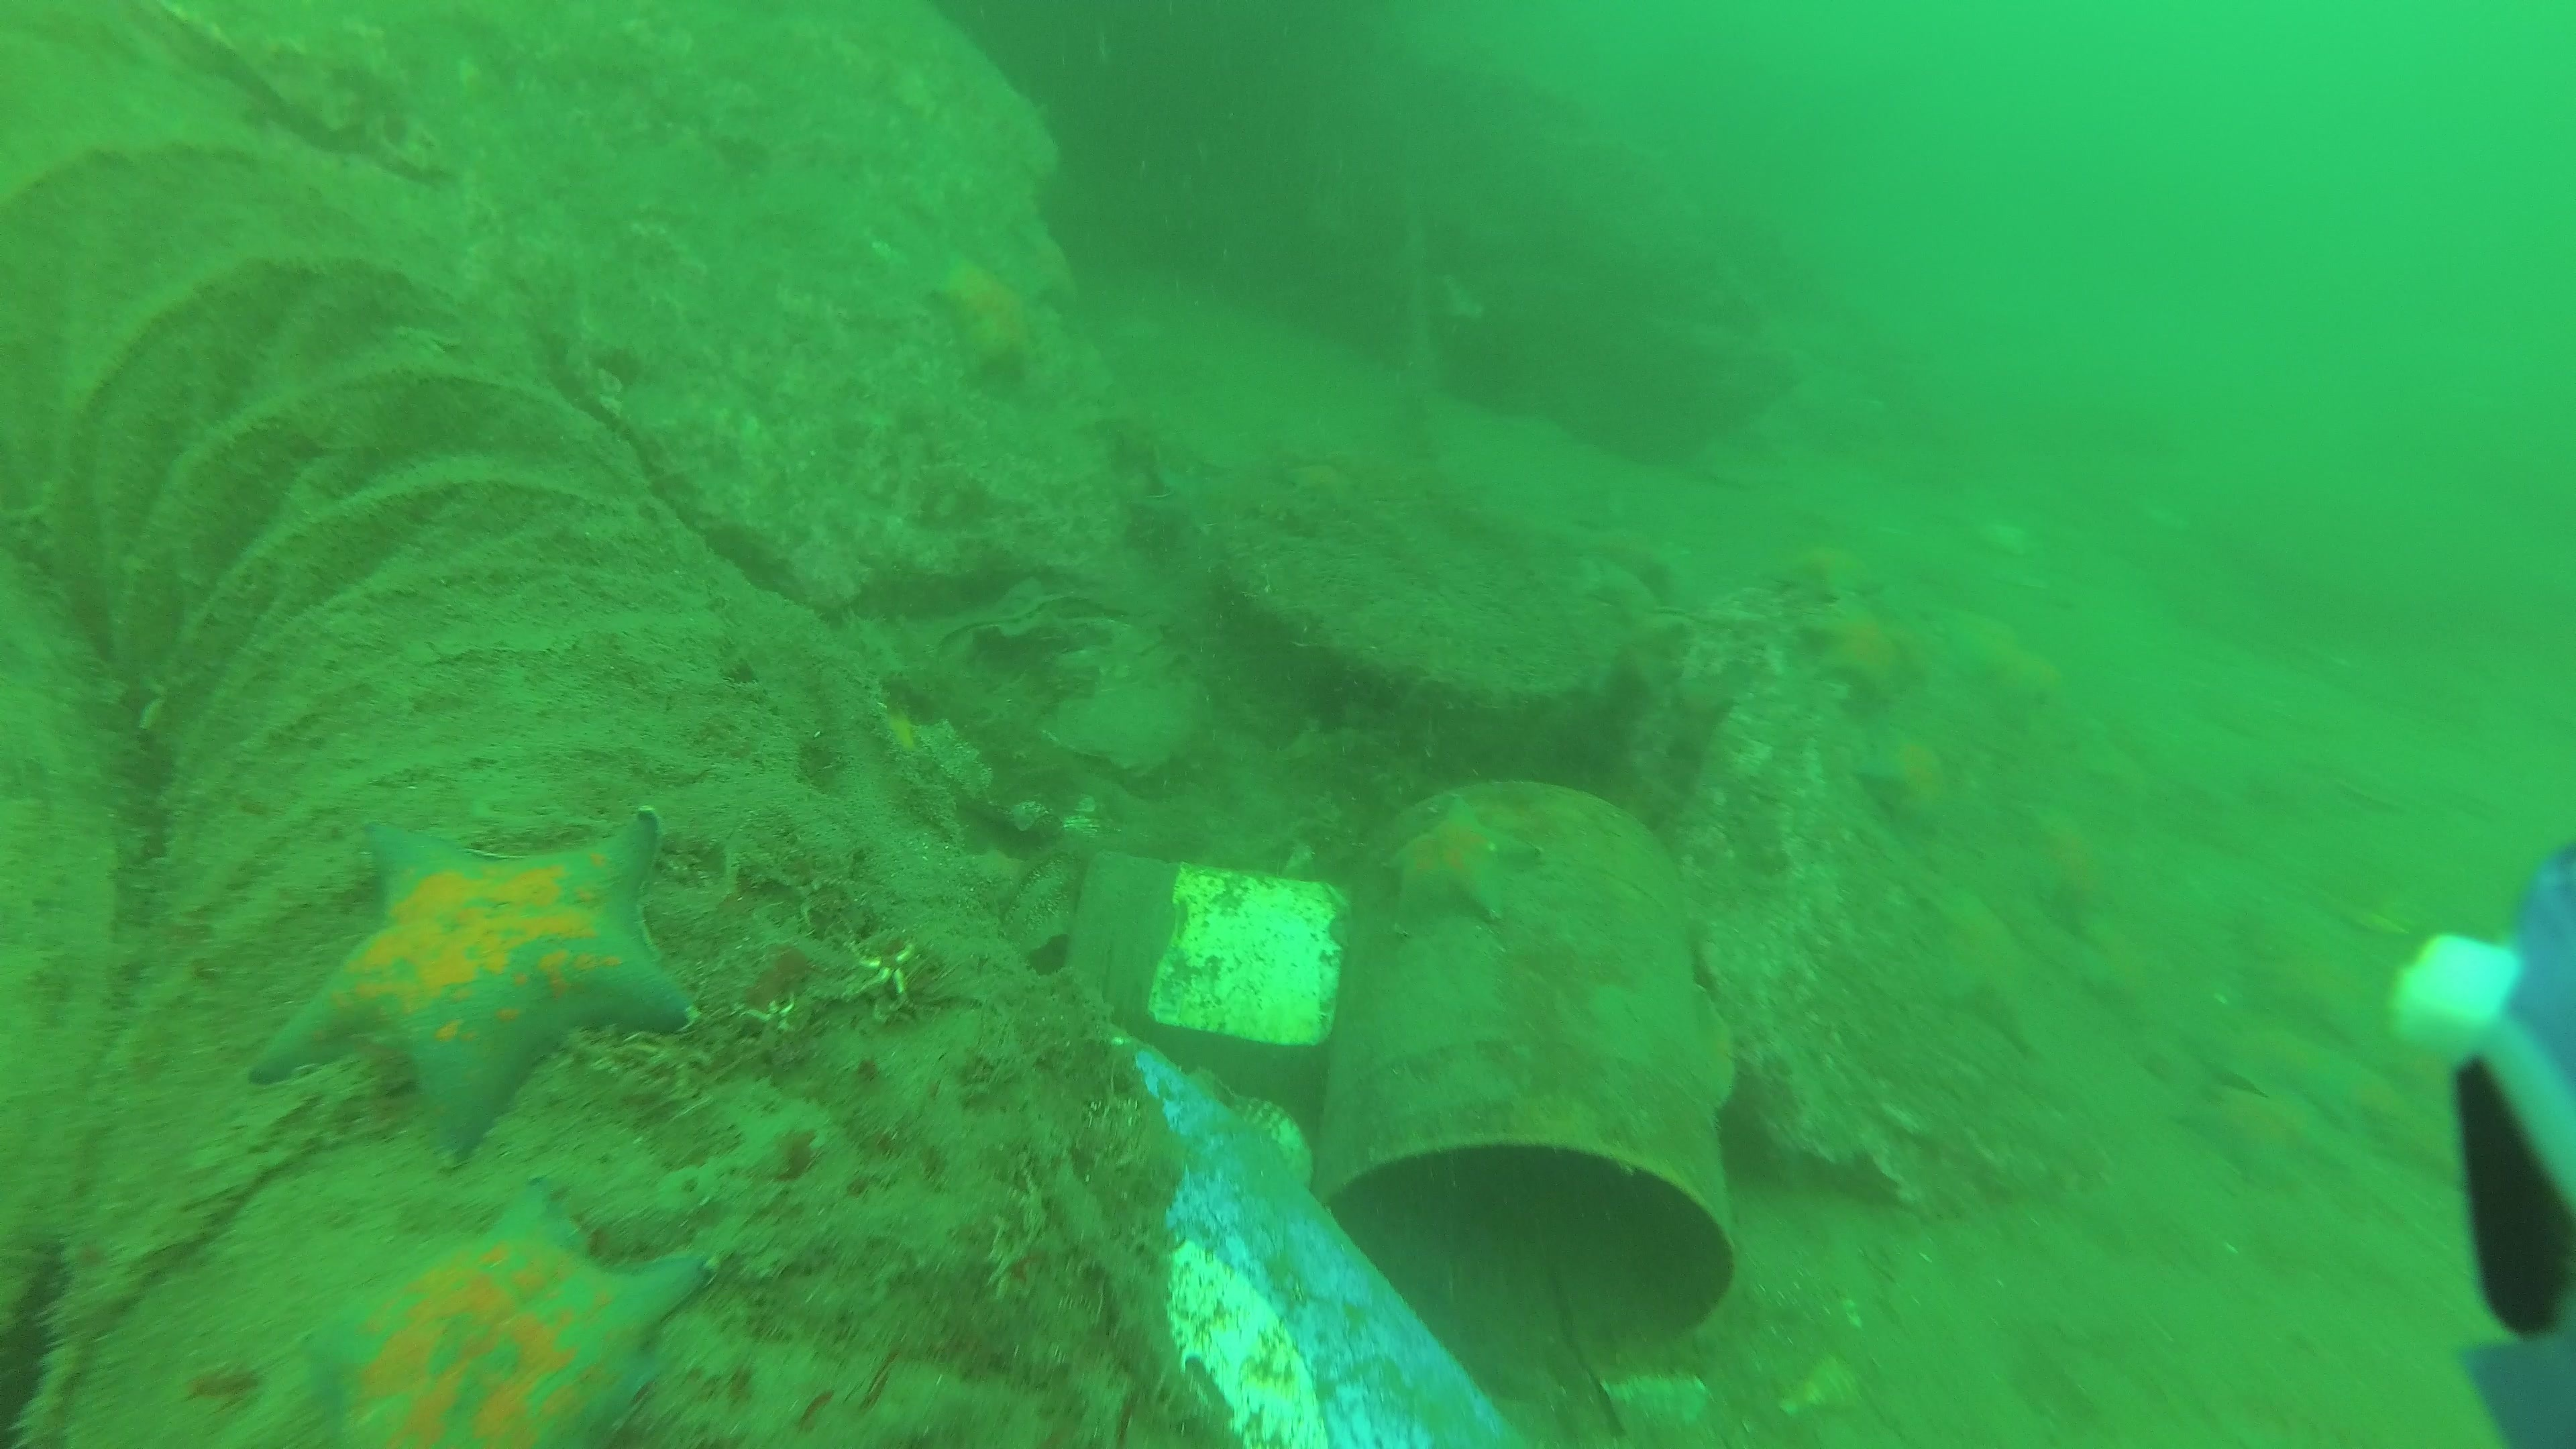starfish: (253, 805, 699, 1171), (295, 1184, 722, 1449), (2201, 1005, 2450, 1157), (2185, 1074, 2365, 1214), (2245, 916, 2417, 1049), (1914, 883, 2038, 1044), (1382, 805, 1534, 929), (922, 248, 1039, 386), (1803, 598, 1927, 709), (2005, 800, 2128, 902), (1960, 614, 2077, 717), (1856, 731, 1951, 833), (1780, 538, 1893, 610), (2091, 911, 2153, 1010)
